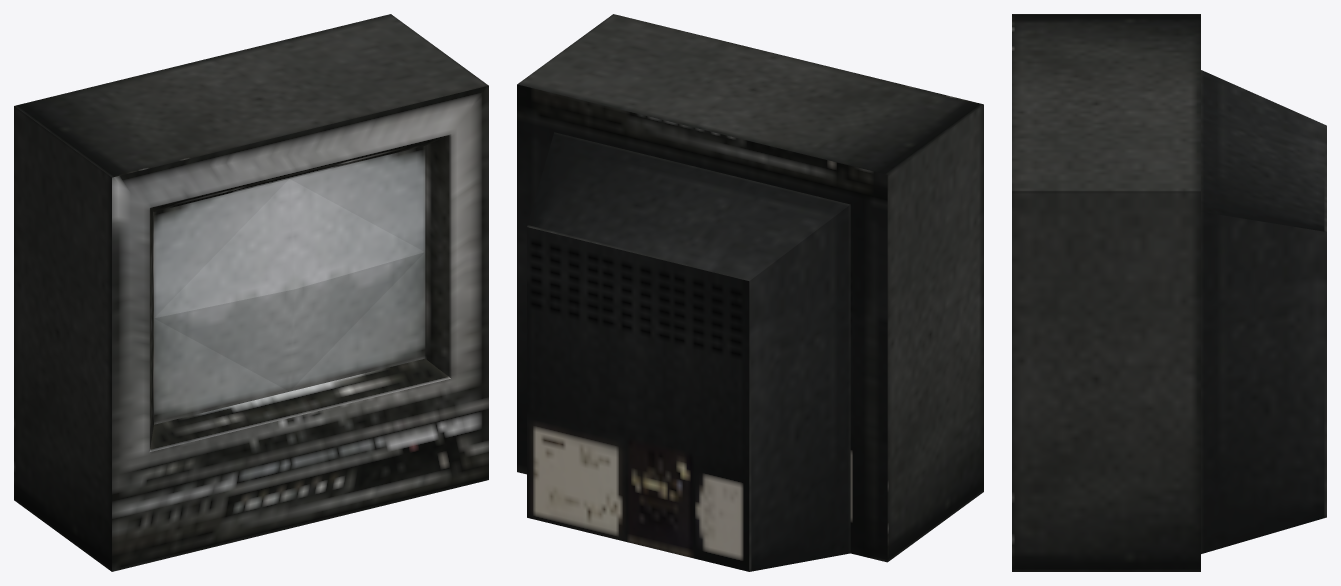
File: Television02.obj
3 renders of one model, left to right at view 1: azimuth 30°, elevation 25°; view 2: azimuth 150°, elevation 25°; view 3: azimuth 270°, elevation 25°, orthographic. The views are drawn at different scales.
Parts seen in each view (by area): view 1: Television02; view 2: Television02; view 3: Television02.
Part boxes in pixels (<box>): Television02: <box>14,14,488,571</box>; Television02: <box>517,14,983,571</box>; Television02: <box>1012,14,1326,571</box>.
Size of the model in its own units: 1 by 1 by 0.75.
